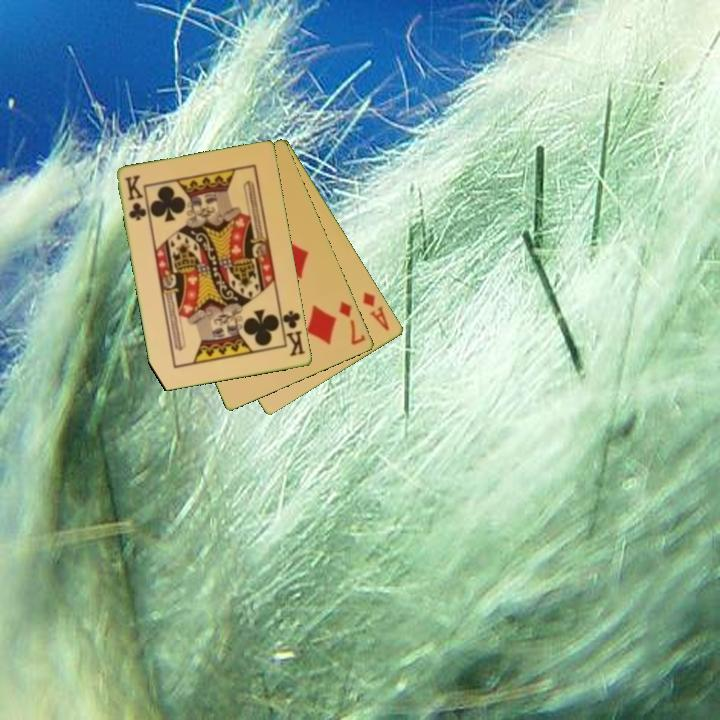7d: (335, 297, 368, 348)
Ad: (360, 288, 393, 334)
Kc: (277, 307, 308, 359), (121, 172, 149, 224)
